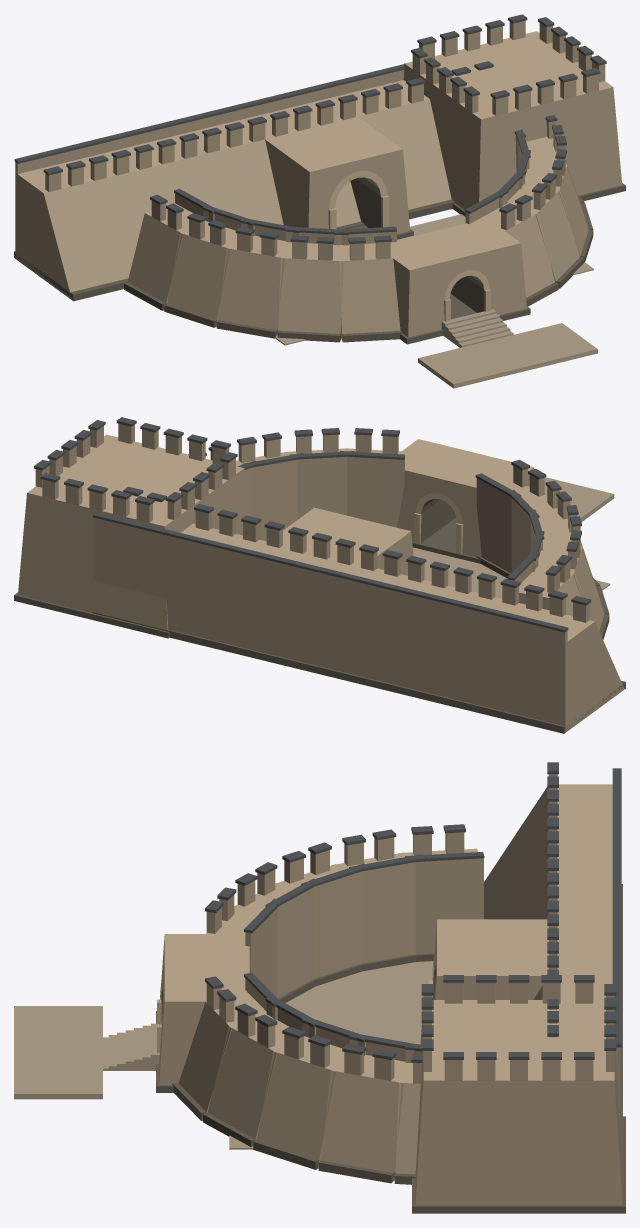
File: J03_far.glb
The picture shows the model from 3 angles, top to bottom: view 1: azimuth 30°, elevation 25°; view 2: azimuth 150°, elevation 25°; view 3: azimuth 270°, elevation 25°; orthographic projection. The views are drawn at different scales.
Visible parts, largest first — view 1: J03_far; view 2: J03_far; view 3: J03_far.
Part boxes in pixels (x1=…): J03_far: x1=14, y1=14, x2=625, y2=388; J03_far: x1=14, y1=417, x2=625, y2=733; J03_far: x1=14, y1=762, x2=625, y2=1213.
Bounding box in the file's own units: 51.2 × 11.32 × 41.2.
